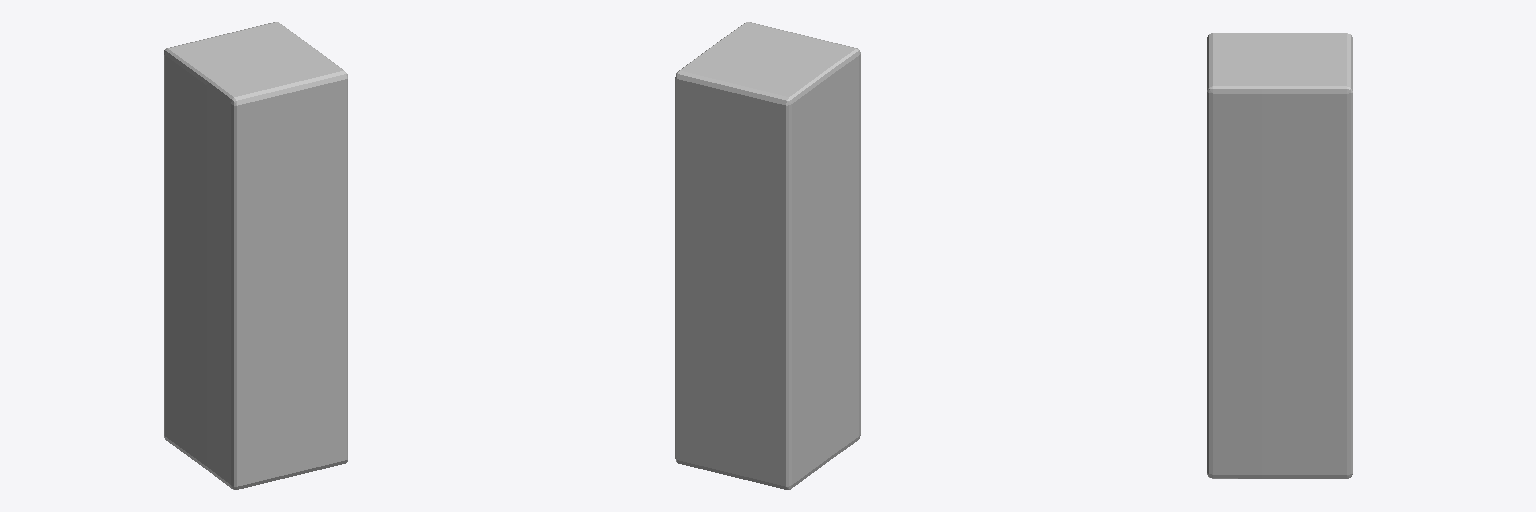
Rendered from pillar_stone.obj.
3 views of the same model, side by side, from view 1: azimuth 30°, elevation 25°; view 2: azimuth 150°, elevation 25°; view 3: azimuth 270°, elevation 25° (orthographic).
Parts seen in each view (by area): view 1: pillar_stone; view 2: pillar_stone; view 3: pillar_stone.
Boxes of the visible parts, x1=… form: pillar_stone: x1=164, y1=22, x2=347, y2=489; pillar_stone: x1=675, y1=22, x2=860, y2=489; pillar_stone: x1=1207, y1=33, x2=1352, y2=478.
Bounding box in the file's own units: 1.15 × 3.72 × 1.26.